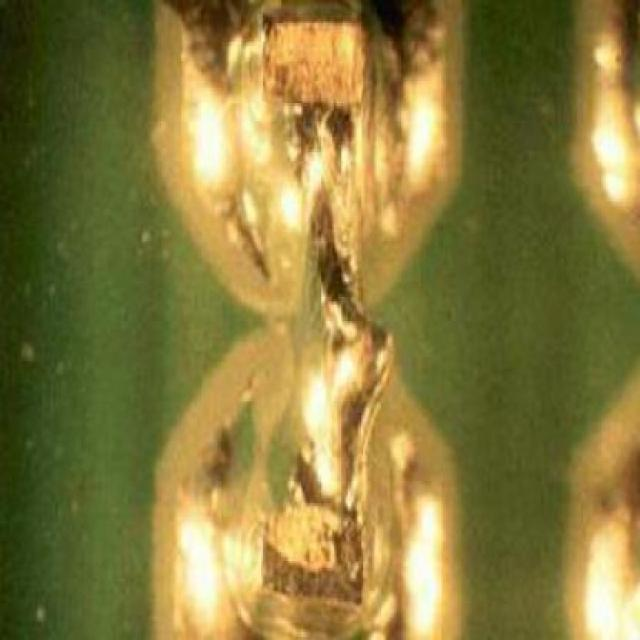Soldering shorted: (163, 8, 429, 636)
